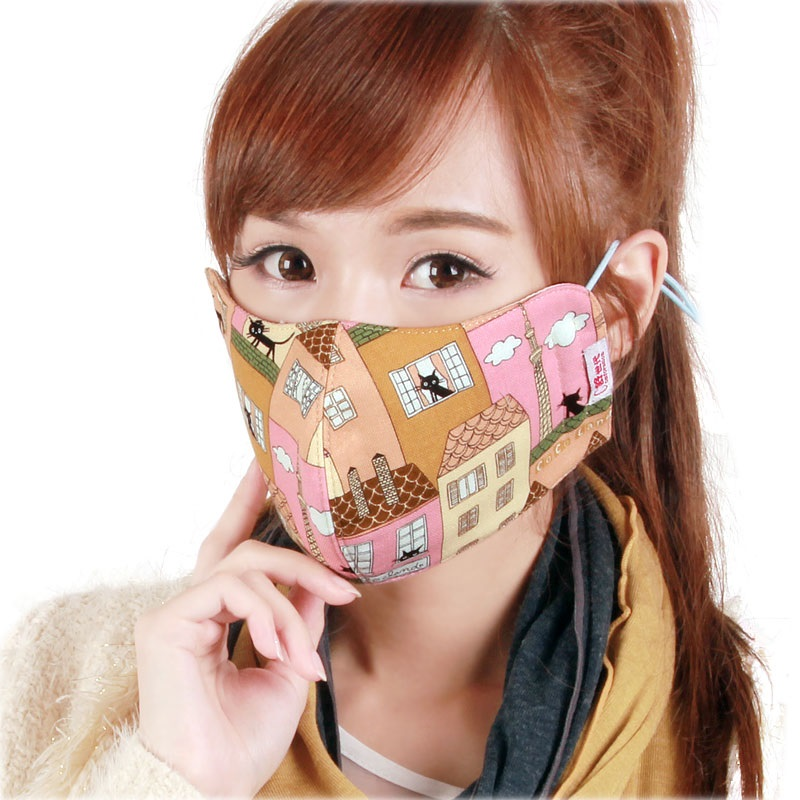face_mask: (224, 100, 557, 536)
